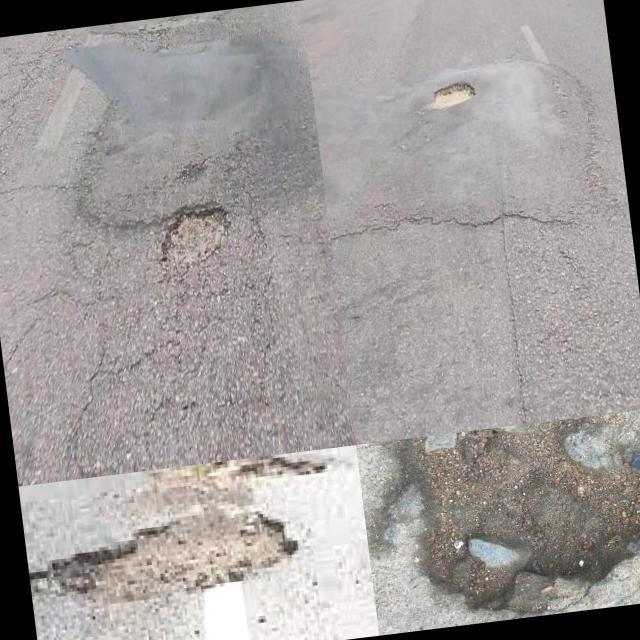Pothole: (371, 416, 640, 617), (28, 465, 326, 612), (162, 206, 227, 264), (432, 79, 473, 110)
